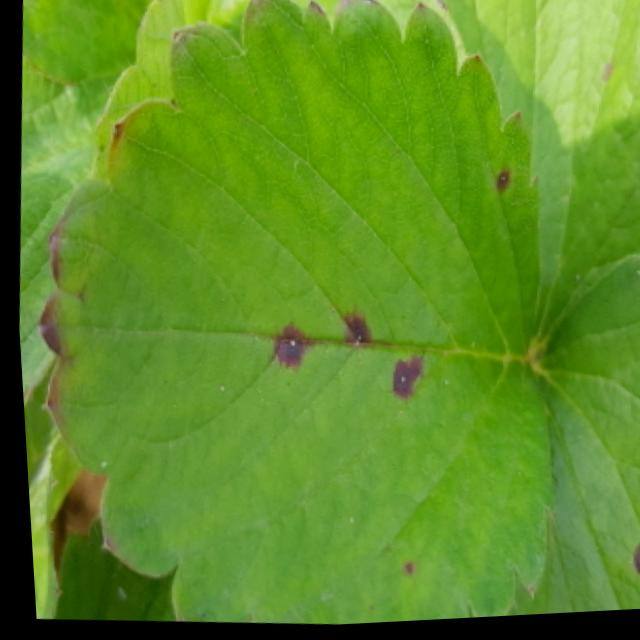Leaf Spot: (31, 0, 546, 627), (433, 0, 640, 361), (497, 259, 640, 621)
